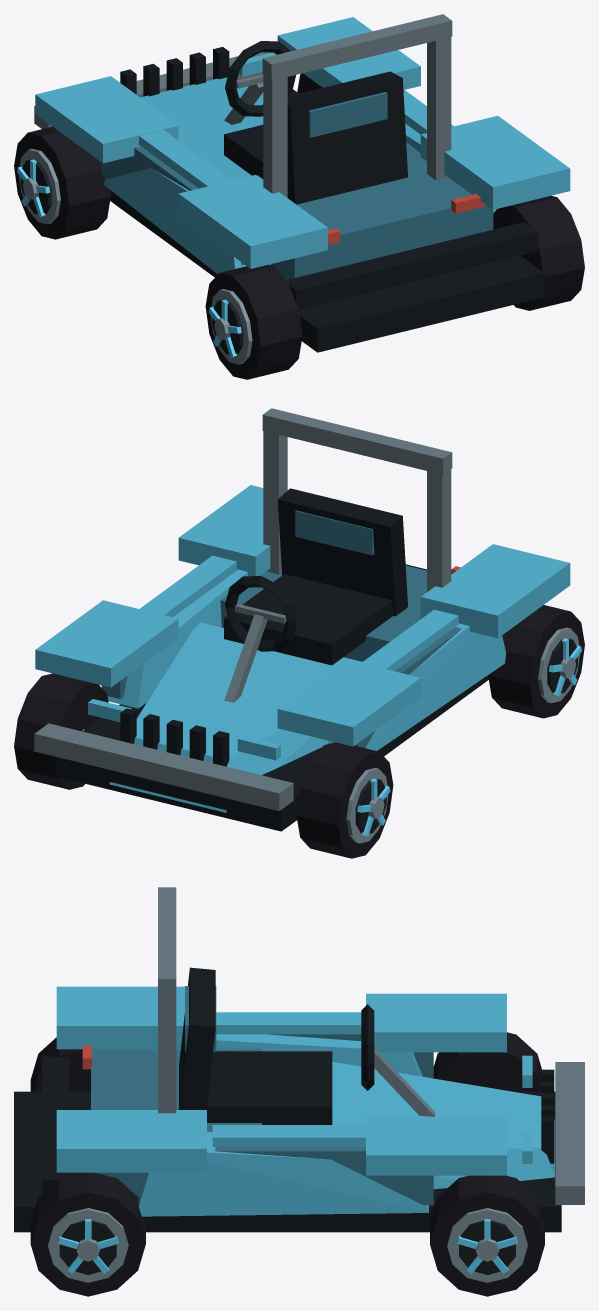
File: kart.glb
The picture shows the model from 3 angles, top to bottom: view 1: azimuth 30°, elevation 25°; view 2: azimuth 150°, elevation 25°; view 3: azimuth 270°, elevation 25°; orthographic projection. The views are drawn at different scales.
Visible parts, largest first — view 1: chassis, wheel-rear-left, wheel-front-left, wheel-rear-right; view 2: chassis, wheel-front-left, wheel-rear-left, wheel-front-right; view 3: chassis, wheel-rear-right, wheel-front-right, wheel-front-left, wheel-rear-left.
Part boxes in pixels (box(x1,y1,x2,y2)): chassis: box(34, 14, 570, 352); wheel-rear-left: box(205, 264, 302, 379); wheel-front-left: box(14, 126, 110, 239); wheel-rear-right: box(493, 195, 584, 310); chassis: box(34, 408, 570, 831); wheel-front-left: box(296, 742, 393, 858); wheel-rear-left: box(488, 605, 584, 718); wheel-front-right: box(14, 673, 108, 789); chassis: box(14, 887, 584, 1232); wheel-rear-right: box(30, 1172, 145, 1296); wheel-front-right: box(430, 1175, 544, 1296); wheel-front-left: box(433, 1032, 541, 1091); wheel-rear-left: box(30, 1037, 90, 1091).
Bounding box in the file's own units: 2.27 × 1.67 × 3.08.
